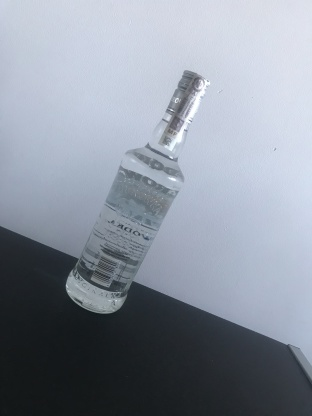nakretka: (163, 67, 212, 126)
